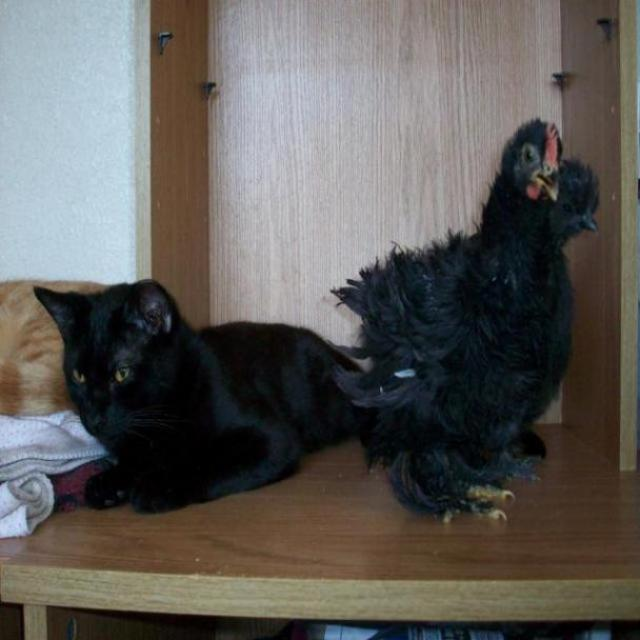Chicken: (312, 108, 589, 503)
